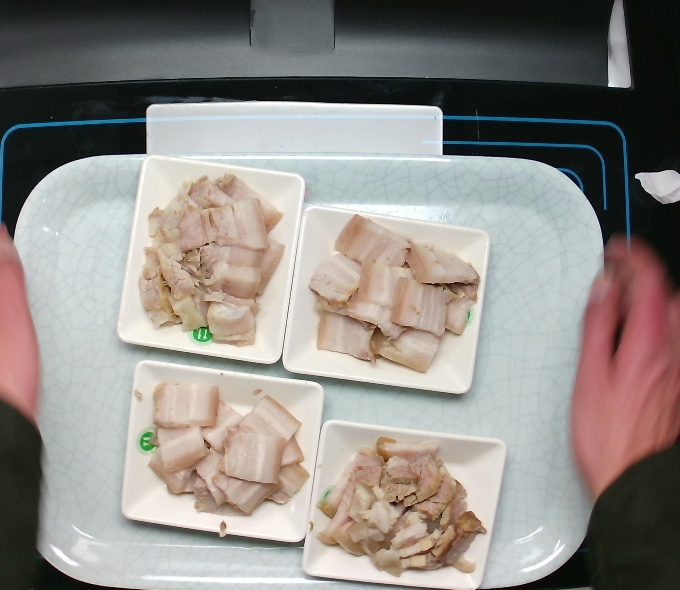wcq-BaiQieRou: (309, 423, 472, 585), (142, 370, 305, 532), (306, 214, 469, 376), (128, 175, 291, 337)
